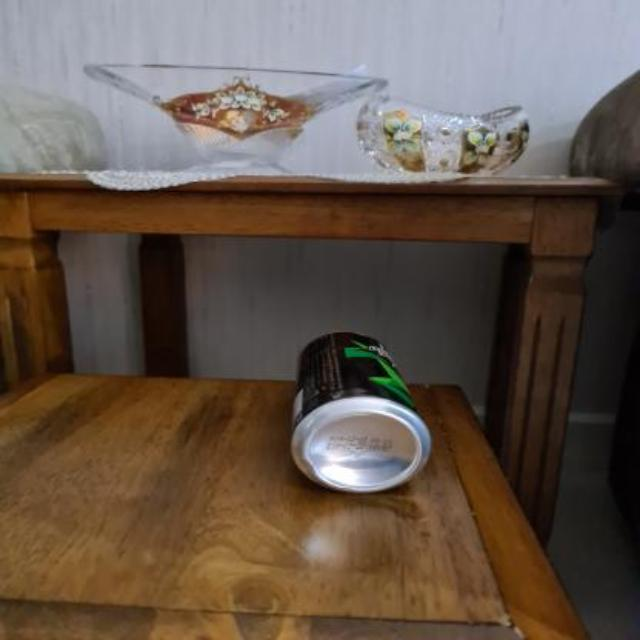metal: (289, 331, 428, 489)
